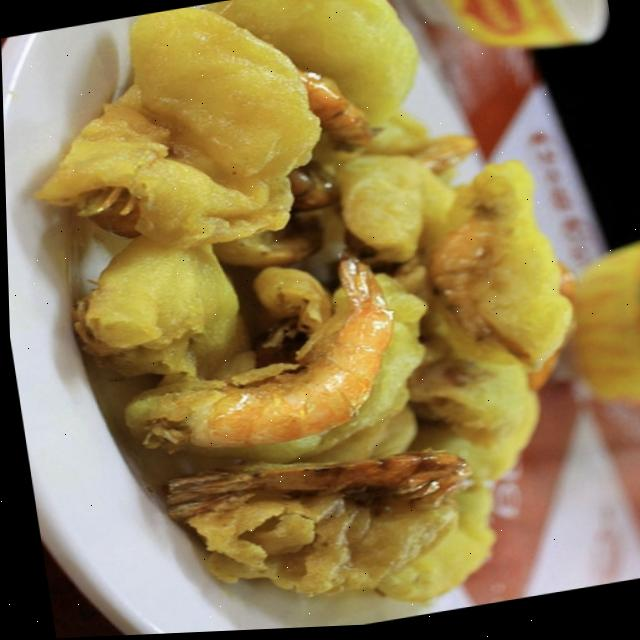炸货点心: (0, 0, 614, 640)
熟制海鲜: (0, 0, 614, 640)
